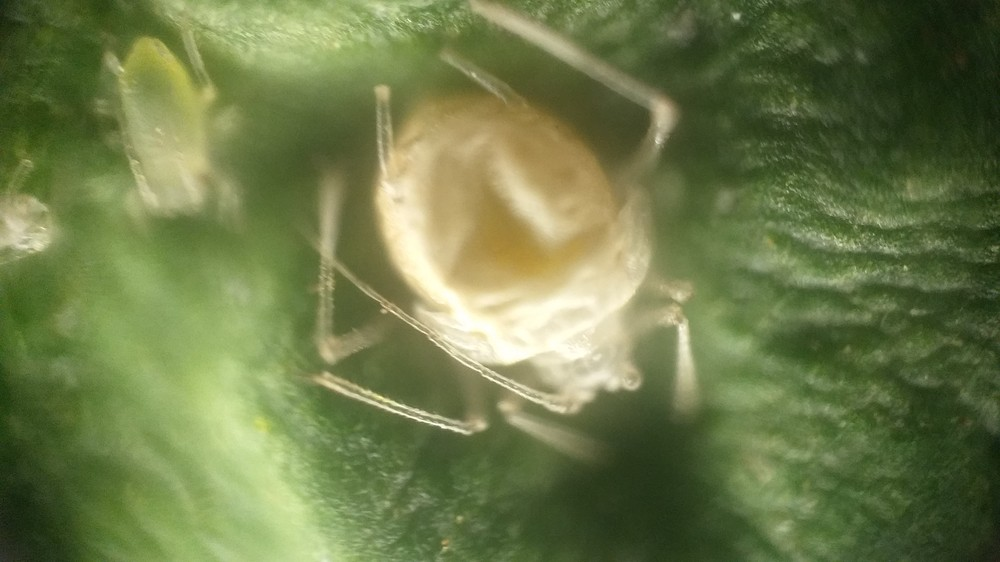Pulgon: (287, 32, 744, 472), (66, 27, 266, 247)
